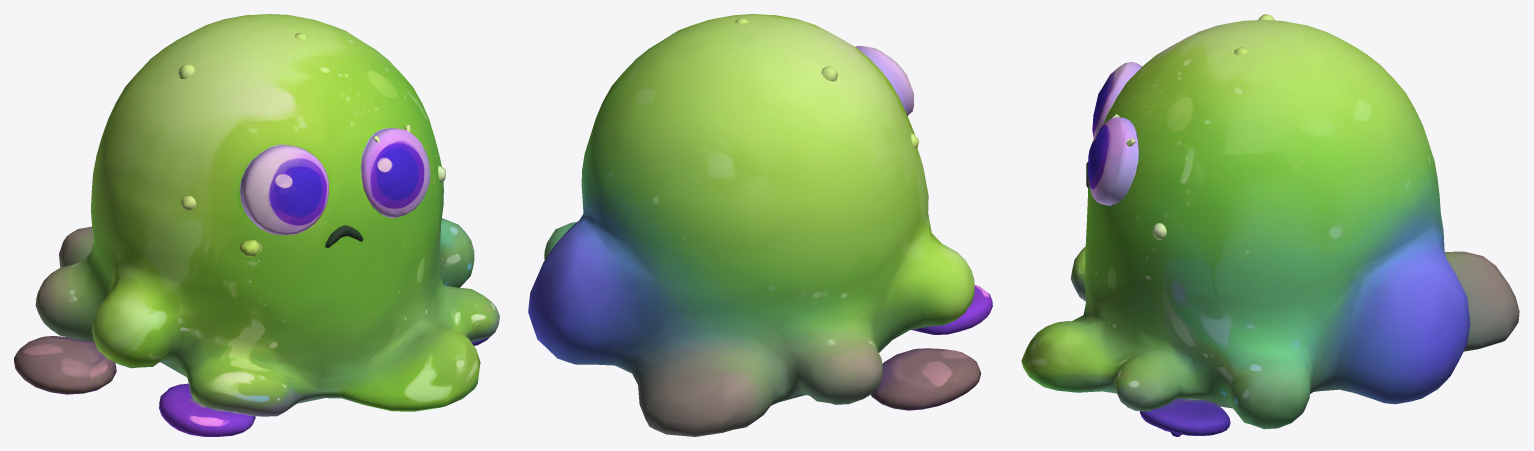
File: 귀여운 눈 큰 녹색 슬라임.glb
The picture shows the model from 3 angles, left to right: view 1: azimuth 30°, elevation 25°; view 2: azimuth 150°, elevation 25°; view 3: azimuth 270°, elevation 25°; orthographic projection.
Parts seen in each view (by area): view 1: pb_node; view 2: pb_node; view 3: pb_node.
Part boxes in pixels (bbox=[...]): pb_node: bbox=[14, 14, 499, 436]; pb_node: bbox=[528, 14, 992, 436]; pb_node: bbox=[1021, 14, 1519, 436].
Bounding box in the file's own units: 0.998 × 0.6973 × 0.9863.
Materials: 1 (1 with a texture image).
